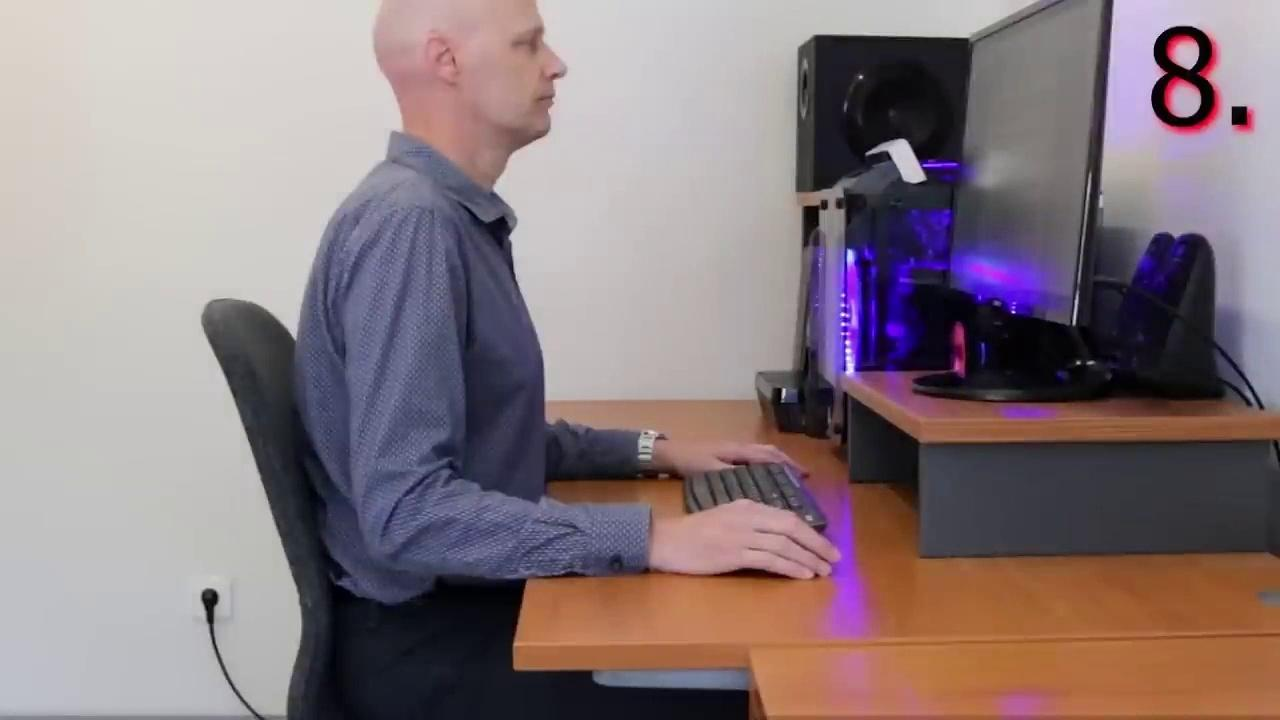GoodPosture: (293, 0, 840, 719)
